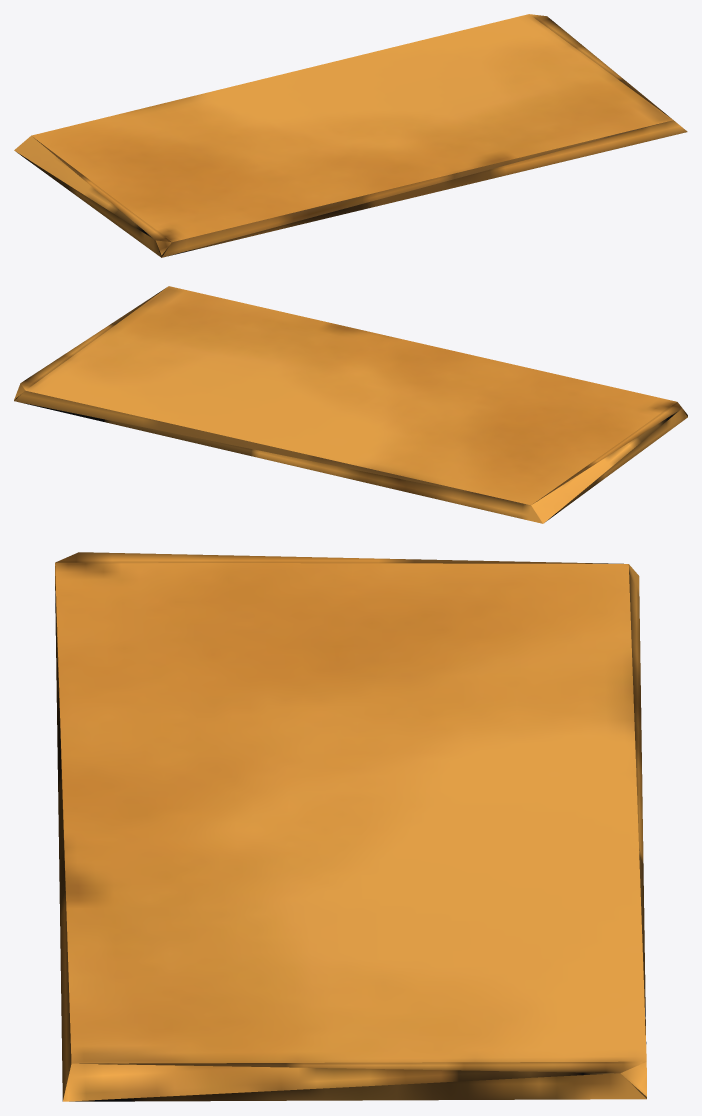
Rendered from Egyptian_map_door.glb.
The picture shows the model from 3 angles, top to bottom: view 1: azimuth 30°, elevation 25°; view 2: azimuth 150°, elevation 25°; view 3: azimuth 270°, elevation 25°; orthographic projection. The views are drawn at different scales.
Visible parts, largest first — view 1: LowPolyProps; view 2: LowPolyProps; view 3: LowPolyProps.
Boxes of the visible parts, x1,y1,x2,y2 form: LowPolyProps: (14,14,687,257); LowPolyProps: (14,286,687,523); LowPolyProps: (55,552,646,1101).
Size of the model in its own units: 5.69 by 0.187 by 2.76.
Materials: 1 (1 with a texture image).
